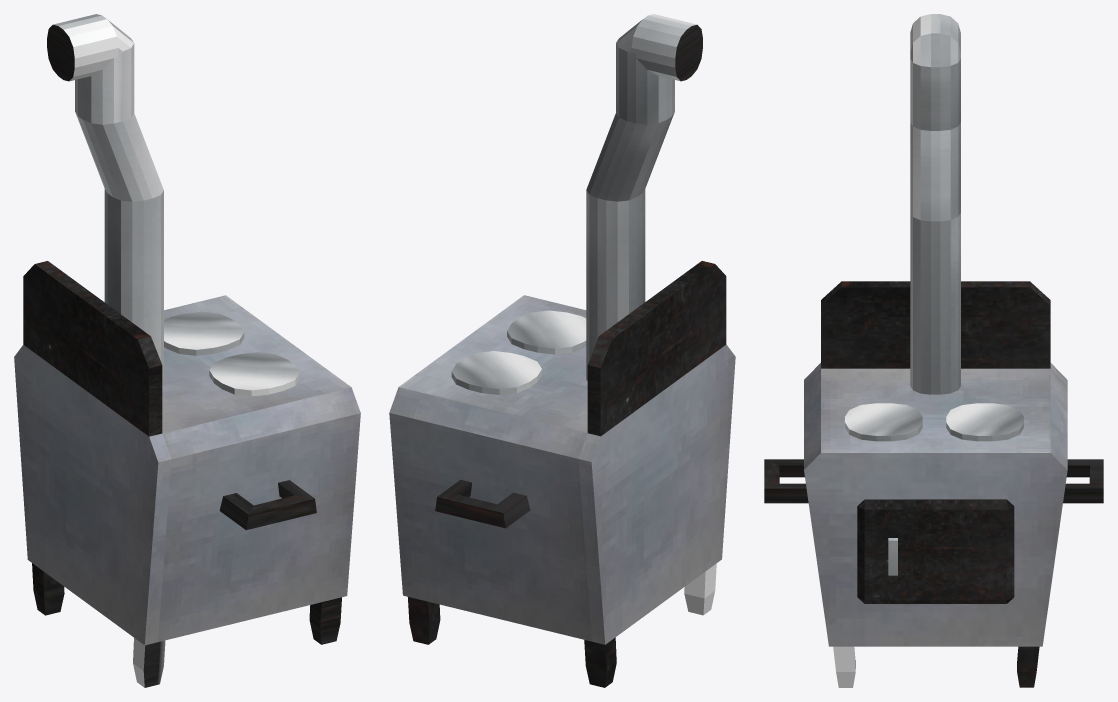
Rendered from oven.fbx.
3 views of the same model, side by side, from view 1: azimuth 30°, elevation 25°; view 2: azimuth 150°, elevation 25°; view 3: azimuth 270°, elevation 25° (orthographic). The views are drawn at different scales.
Parts seen in each view (by area): view 1: oven; view 2: oven; view 3: oven.
Part boxes in pixels (<box>): oven: <box>14,14,360,687</box>; oven: <box>389,14,735,687</box>; oven: <box>764,14,1103,687</box>.
Bounding box in the file's own units: 446 × 1106 × 592.
